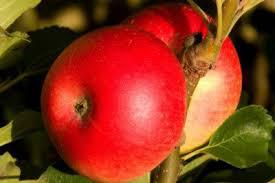apple: (45, 23, 177, 182)
